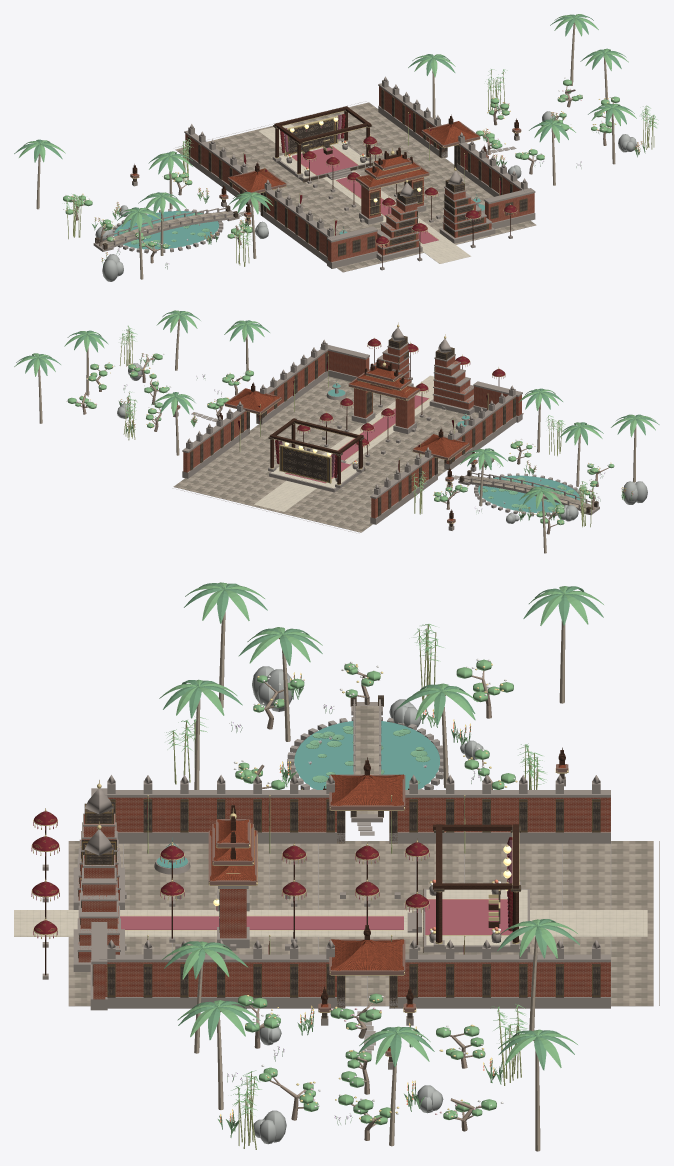
File: compound.glb
3 renders of one model, top to bottom at view 1: azimuth 30°, elevation 25°; view 2: azimuth 150°, elevation 25°; view 3: azimuth 270°, elevation 25°, orthographic. The views are drawn at different scales.
Visible parts, largest first — view 1: courtyard, walls, candi_bentar, garden_east, garden_trees, wedding_stage, kori_agung, garden_west_water, stone_bridge, garden_rocks, processional_tedung, tedung_gate (+3 smaller); view 2: courtyard, walls, garden_east, candi_bentar, garden_trees, wedding_stage, kori_agung, garden_west_water, stone_bridge, processional_tedung, garden_rocks, tedung_gate (+3 smaller); view 3: walls, courtyard, garden_east, garden_trees, wedding_stage, candi_bentar, garden_west_water, kori_agung, processional_tedung, stone_bridge, garden_rocks, tedung_gate (+5 smaller).
Boxes of the visible parts, left/top/right/bottom form: courtyard: left=175, top=101, right=536, bottom=272; walls: left=184, top=76, right=530, bottom=263; candi_bentar: left=327, top=166, right=535, bottom=268; garden_east: left=408, top=14, right=658, bottom=185; garden_trees: left=14, top=138, right=272, bottom=279; wedding_stage: left=272, top=106, right=377, bottom=183; kori_agung: left=355, top=147, right=429, bottom=224; garden_west_water: left=110, top=209, right=223, bottom=253; stone_bridge: left=93, top=205, right=239, bottom=251; garden_rocks: left=95, top=205, right=268, bottom=281; processional_tedung: left=313, top=145, right=440, bottom=230; tedung_gate: left=375, top=204, right=517, bottom=270; courtyard: left=172, top=375, right=523, bottom=533; walls: left=182, top=339, right=518, bottom=524; garden_east: left=14, top=310, right=269, bottom=455; candi_bentar: left=320, top=322, right=522, bottom=422; garden_trees: left=411, top=388, right=659, bottom=553; wedding_stage: left=268, top=418, right=369, bottom=492; kori_agung: left=348, top=359, right=420, bottom=434; garden_west_water: left=474, top=473, right=584, bottom=516; stone_bridge: left=458, top=470, right=599, bottom=515; processional_tedung: left=307, top=381, right=445, bottom=465; garden_rocks: left=478, top=456, right=647, bottom=523; tedung_gate: left=367, top=337, right=505, bottom=386; walls: left=99, top=757, right=610, bottom=1008; courtyard: left=14, top=841, right=659, bottom=1006; garden_east: left=162, top=919, right=579, bottom=1151; garden_trees: left=159, top=582, right=603, bottom=789; wedding_stage: left=405, top=824, right=529, bottom=952; candi_bentar: left=73, top=780, right=124, bottom=1010; garden_west_water: left=287, top=717, right=443, bottom=789; kori_agung: left=208, top=805, right=257, bottom=948; processional_tedung: left=125, top=842, right=400, bottom=950; stone_bridge: left=350, top=695, right=383, bottom=822; garden_rocks: left=252, top=666, right=483, bottom=759; tedung_gate: left=31, top=808, right=59, bottom=979.
Size of the model in its own units: 94.12 by 12.53 by 53.03.
Materials: 31 (7 with a texture image).
